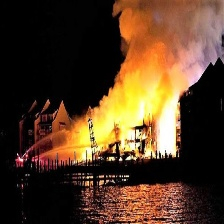fire: (108, 96, 167, 141)
smoke: (74, 1, 223, 99)
